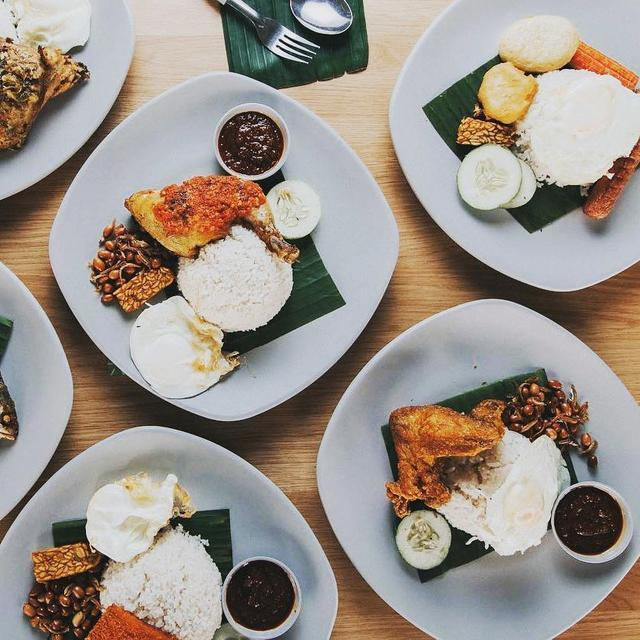Braised Crucian Carp: (50, 73, 397, 421), (313, 297, 638, 636), (388, 0, 635, 291), (0, 425, 336, 637)
